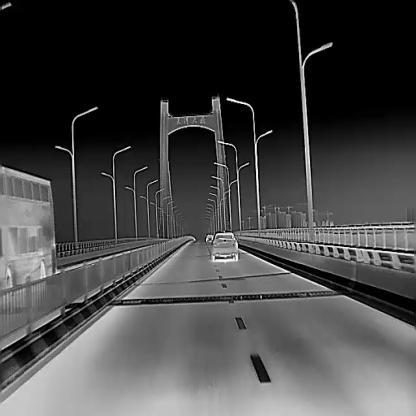car: (0, 165, 53, 296), (211, 231, 238, 260), (206, 233, 213, 242)
